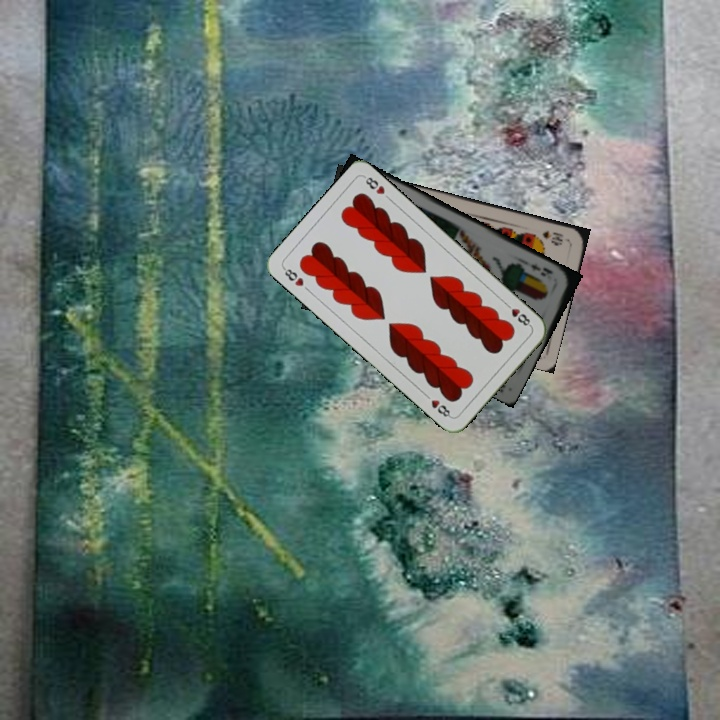EK: (527, 259, 555, 279)
H8: (501, 299, 534, 329), (279, 263, 306, 289)
S10: (538, 226, 571, 246)
